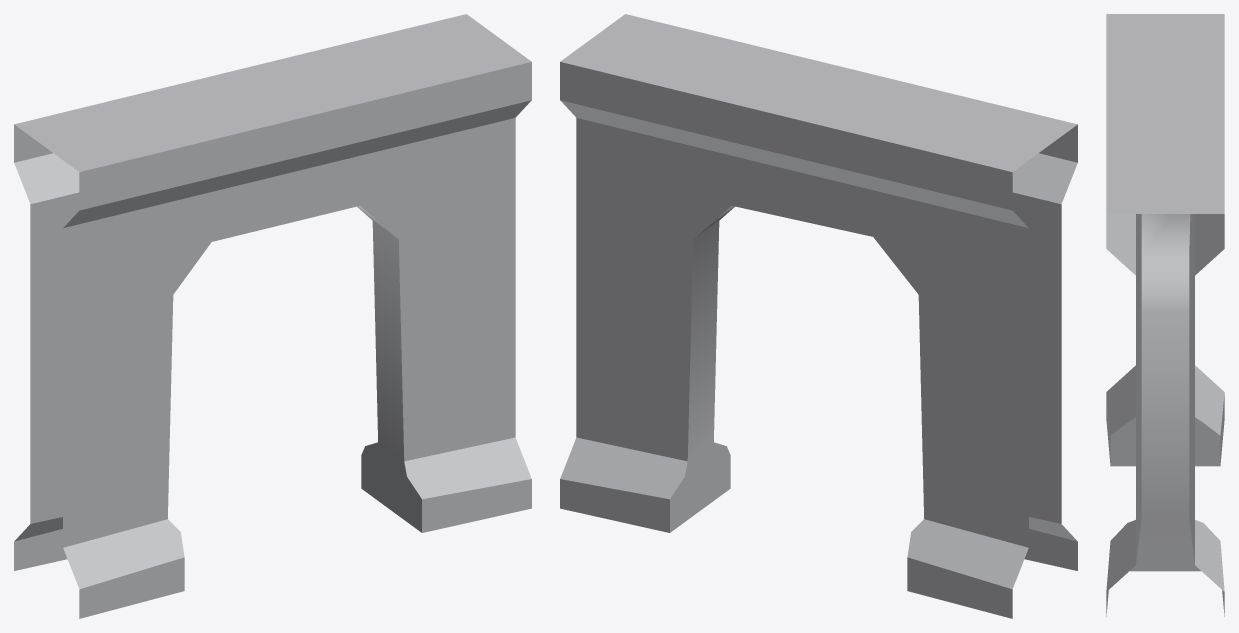
Rendered from LP_CastleDoor.fbx.
The picture shows the model from 3 angles, left to right: view 1: azimuth 30°, elevation 25°; view 2: azimuth 150°, elevation 25°; view 3: azimuth 270°, elevation 25°; orthographic projection. The views are drawn at different scales.
Parts seen in each view (by area): view 1: Wall_Doorway; view 2: Wall_Doorway; view 3: Wall_Doorway.
Boxes of the visible parts, bbox=[...] form: Wall_Doorway: bbox=[14, 14, 531, 618]; Wall_Doorway: bbox=[560, 14, 1077, 618]; Wall_Doorway: bbox=[1106, 14, 1224, 616].
Bounding box in the file's own units: 1.47 × 1.39 × 0.3681.
Materials: 1 (1 with a texture image).
